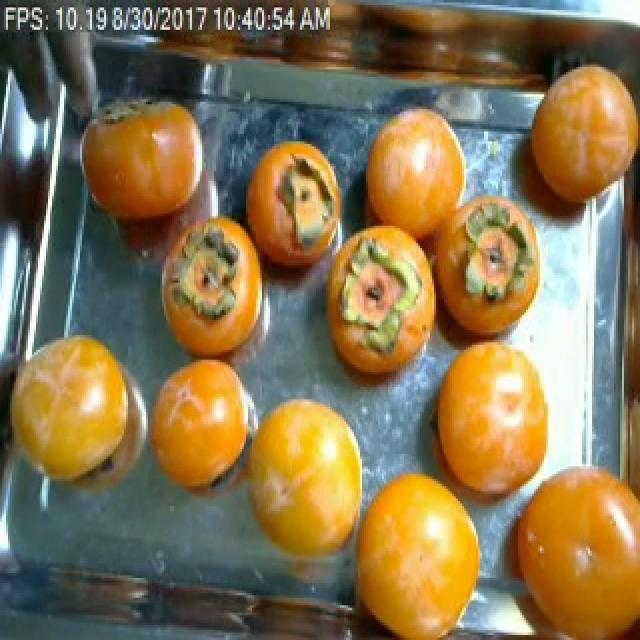Fruit: (412, 317, 566, 538), (222, 377, 368, 588), (0, 317, 152, 508), (352, 449, 496, 640), (506, 47, 640, 246), (80, 79, 226, 253), (348, 84, 478, 250), (134, 342, 256, 508), (230, 124, 346, 285)
